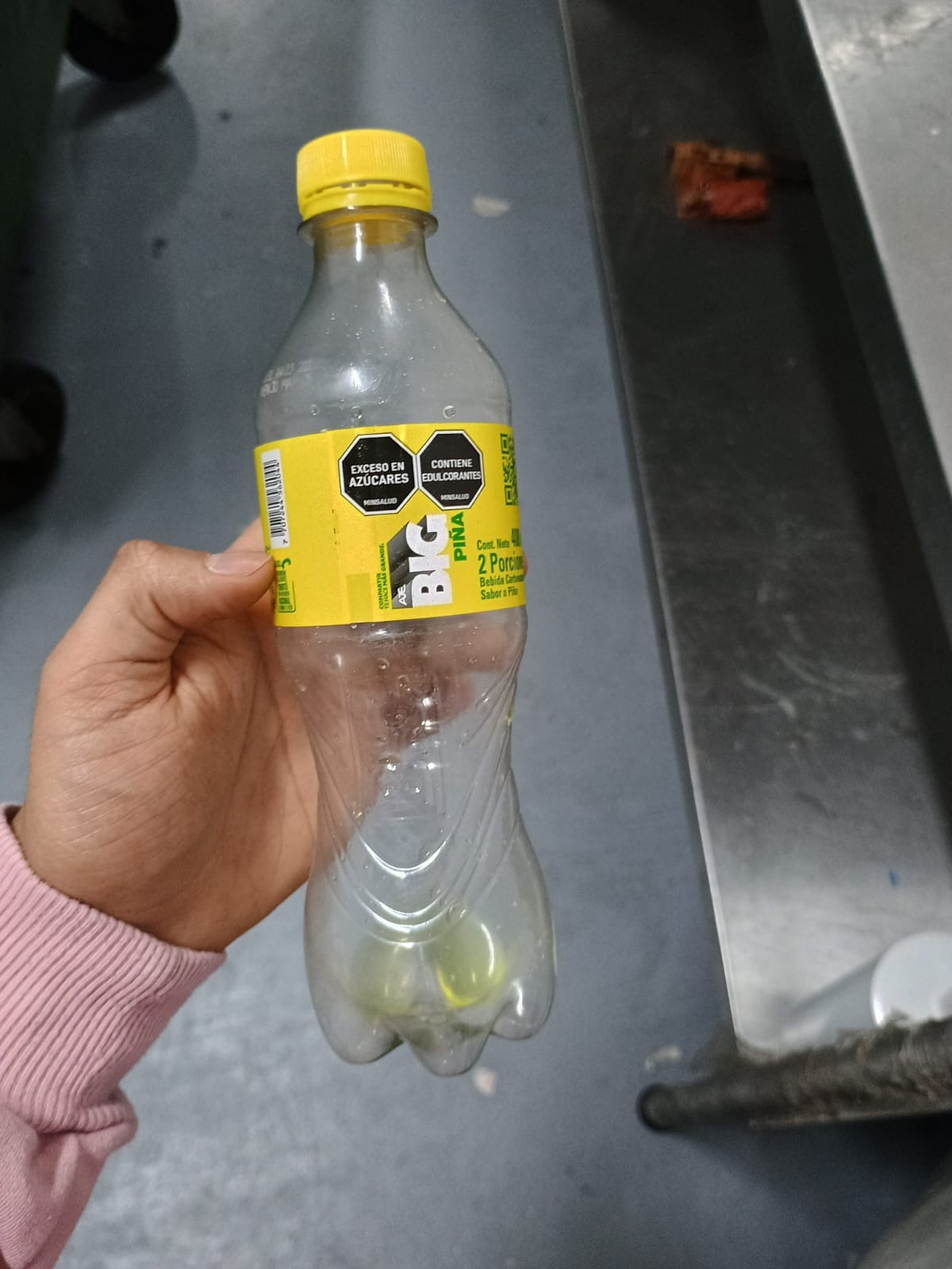Plastico: (257, 127, 558, 1078)
